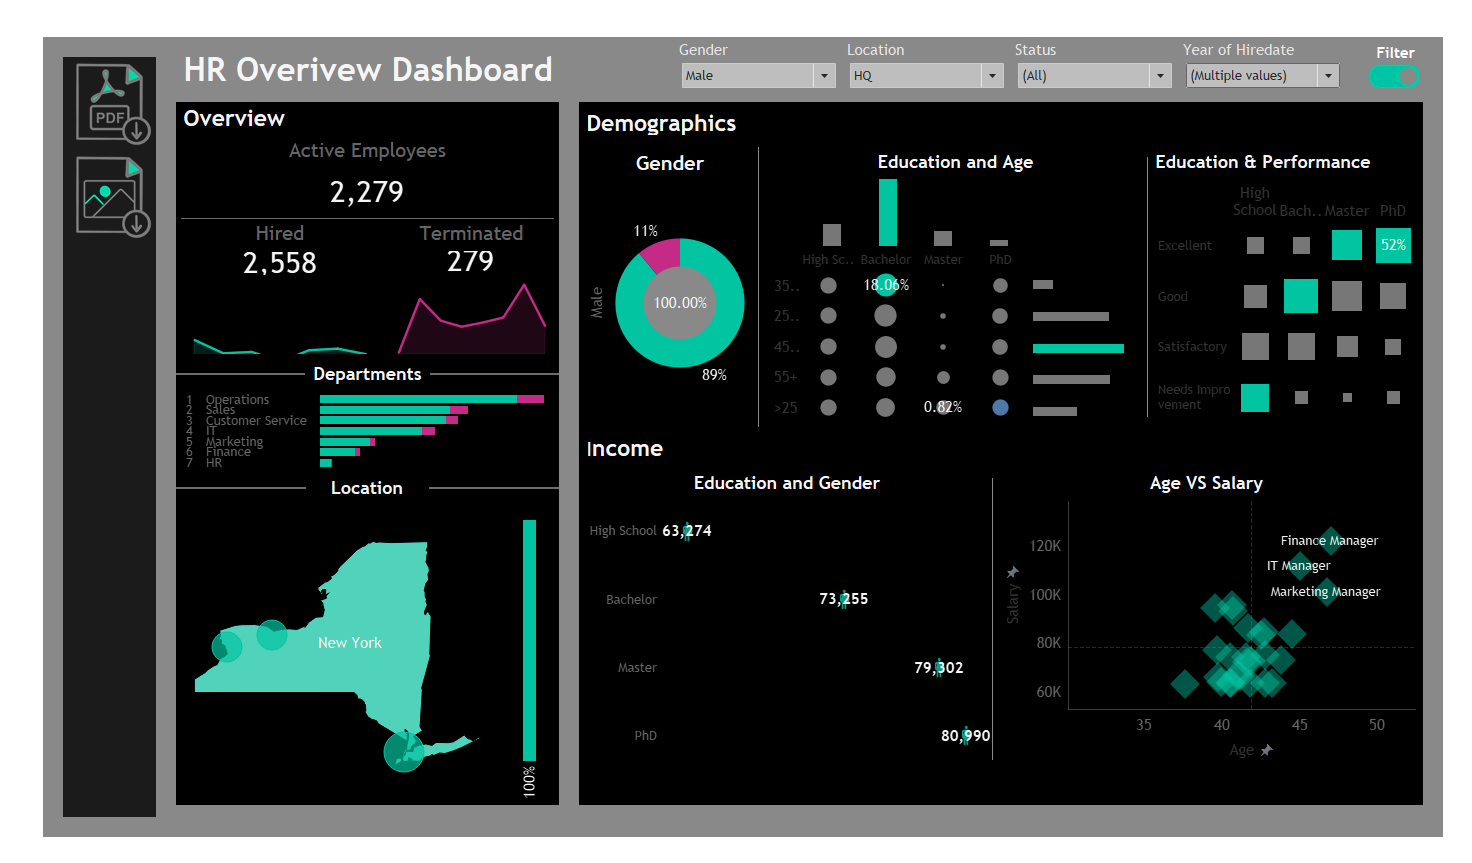

Layout of this report page (visuals, bound fields, positions):
{"tool":"tableau","page":{"name":"HR | Summary","canvas":[1400,800],"ordinal":0},"visuals":[{"type":"text","box":[100,0,704,65]},{"type":"blank","box":[804,0,576,65]},{"type":"blank","box":[20,20,60,380]},{"type":"text","box":[100,65,416,32]},{"type":"text","box":[536,70,844,35]},{"type":"text","box":[100,97,416,32]},{"type":"text","box":[539,113,119,32]},{"type":"blank","box":[658,113,32,270]},{"type":"text","box":[690,113,383,29]},{"type":"blank","box":[1073,113,41,270]},{"type":"text","box":[1114,113,263,29]},{"type":"worksheet","title":"Total Active","mark":"Automatic","box":[100,129,416,32]},{"type":"worksheet","title":"Education Level","mark":"Bar","rows":["Calculation_1158832524350787584"],"cols":["Education Level"],"box":[690,142,383,42]},{"type":"worksheet","title":"Edu level vs Performance","mark":"Square","rows":["Performance Rating"],"cols":["Education Level"],"box":[1114,142,263,241]},{"type":"worksheet","title":"Gender","mark":"Pie","rows":["Gender"],"cols":["Calculation_1033576160180695041","Calculation_1033576160180695041"],"box":[539,145,119,238]},{"type":"blank","box":[100,161,416,32]},{"type":"worksheet","title":"Age vs Education","mark":"Circle","rows":["Calculation_1033576160184340483"],"cols":["Education Level"],"box":[690,184,269,199]},{"type":"worksheet","title":"Age Groups","mark":"Bar","rows":["Calculation_1033576160184340483"],"cols":["Calculation_1158832524350787584"],"box":[959,184,104,199]},{"type":"text","box":[100,193,249,28]},{"type":"text","box":[349,193,167,28]},{"type":"worksheet","title":"Total Hired","mark":"Automatic","box":[100,221,249,32]},{"type":"worksheet","title":"Total Terminated","mark":"Automatic","box":[349,221,167,28]},{"type":"worksheet","title":"Terminated By year","mark":"Automatic","rows":["Calculation_1158832524350898177","Calculation_1158832524350898177"],"cols":["Termdate"],"box":[349,248.9,167,83.1]},{"type":"worksheet","title":"Hired by year","mark":"Automatic","rows":["Calculation_1158832524350787584","Calculation_1158832524350787584"],"cols":["Hiredate"],"box":[100,253,249,79]},{"type":"blank","box":[100,332,140,32]},{"type":"text","box":[240,332,136,32]},{"type":"blank","box":[376,332,140,32]},{"type":"worksheet","title":"Departments","mark":"Bar","rows":["Calculation_211669228041895937","Department"],"cols":["Calculation_1158832524350787584"],"box":[100,364,416,82]},{"type":"text","box":[536,393,844,35]},{"type":"blank","box":[20,400,60,380]},{"type":"text","box":[539,431,407.5,29]},{"type":"blank","box":[946.5,431,32,254]},{"type":"text","box":[978.5,431,398.5,29]},{"type":"blank","box":[100,446,141.3,32]},{"type":"text","box":[241.3,446,133.3,32]},{"type":"blank","box":[374.7,446,141.3,32]},{"type":"worksheet","title":"Gender vs Educational Level","mark":"Square","rows":["Education Level"],"cols":["Salary","Salary"],"box":[539,460,407.5,225]},{"type":"worksheet","title":"Age VS Salary","mark":"Shape","rows":["Salary"],"cols":["Calculation_1033576160183619586"],"box":[978.5,460,398.5,225]},{"type":"worksheet","title":"Map State","mark":"Automatic","box":[100,478,324,290]},{"type":"worksheet","title":"Location","mark":"Bar","rows":["Calculation_1158832524350787584"],"cols":["Calculation_211669228043399170","Calculation1"],"box":[424,478,92,290]},{"type":"blank","box":[536,688,844,32]}]}

Visuals, with their boxes in screenshot pixels (x1, y1, x2, y2), scaled from the page's 1400x800 canvas onto the 1472x863 screenshot:
text: (x1=105, y1=0, x2=845, y2=70)
blank: (x1=845, y1=0, x2=1451, y2=70)
blank: (x1=21, y1=22, x2=84, y2=432)
text: (x1=105, y1=70, x2=543, y2=105)
text: (x1=564, y1=76, x2=1451, y2=113)
text: (x1=105, y1=105, x2=543, y2=139)
text: (x1=567, y1=122, x2=692, y2=156)
blank: (x1=692, y1=122, x2=725, y2=413)
text: (x1=725, y1=122, x2=1128, y2=153)
blank: (x1=1128, y1=122, x2=1171, y2=413)
text: (x1=1171, y1=122, x2=1448, y2=153)
"Total Active" worksheet: (x1=105, y1=139, x2=543, y2=174)
"Education Level" worksheet (Bar marks): (x1=725, y1=153, x2=1128, y2=198)
"Edu level vs Performance" worksheet (Square marks): (x1=1171, y1=153, x2=1448, y2=413)
"Gender" worksheet (Pie marks): (x1=567, y1=156, x2=692, y2=413)
blank: (x1=105, y1=174, x2=543, y2=208)
"Age vs Education" worksheet (Circle marks): (x1=725, y1=198, x2=1008, y2=413)
"Age Groups" worksheet (Bar marks): (x1=1008, y1=198, x2=1118, y2=413)
text: (x1=105, y1=208, x2=367, y2=238)
text: (x1=367, y1=208, x2=543, y2=238)
"Total Hired" worksheet: (x1=105, y1=238, x2=367, y2=273)
"Total Terminated" worksheet: (x1=367, y1=238, x2=543, y2=269)
"Terminated By year" worksheet: (x1=367, y1=269, x2=543, y2=358)
"Hired by year" worksheet: (x1=105, y1=273, x2=367, y2=358)
blank: (x1=105, y1=358, x2=252, y2=393)
text: (x1=252, y1=358, x2=395, y2=393)
blank: (x1=395, y1=358, x2=543, y2=393)
"Departments" worksheet (Bar marks): (x1=105, y1=393, x2=543, y2=481)
text: (x1=564, y1=424, x2=1451, y2=462)
blank: (x1=21, y1=432, x2=84, y2=841)
text: (x1=567, y1=465, x2=995, y2=496)
blank: (x1=995, y1=465, x2=1029, y2=739)
text: (x1=1029, y1=465, x2=1448, y2=496)
blank: (x1=105, y1=481, x2=254, y2=516)
text: (x1=254, y1=481, x2=394, y2=516)
blank: (x1=394, y1=481, x2=543, y2=516)
"Gender vs Educational Level" worksheet (Square marks): (x1=567, y1=496, x2=995, y2=739)
"Age VS Salary" worksheet (Shape marks): (x1=1029, y1=496, x2=1448, y2=739)
"Map State" worksheet: (x1=105, y1=516, x2=446, y2=828)
"Location" worksheet (Bar marks): (x1=446, y1=516, x2=543, y2=828)
blank: (x1=564, y1=742, x2=1451, y2=777)
